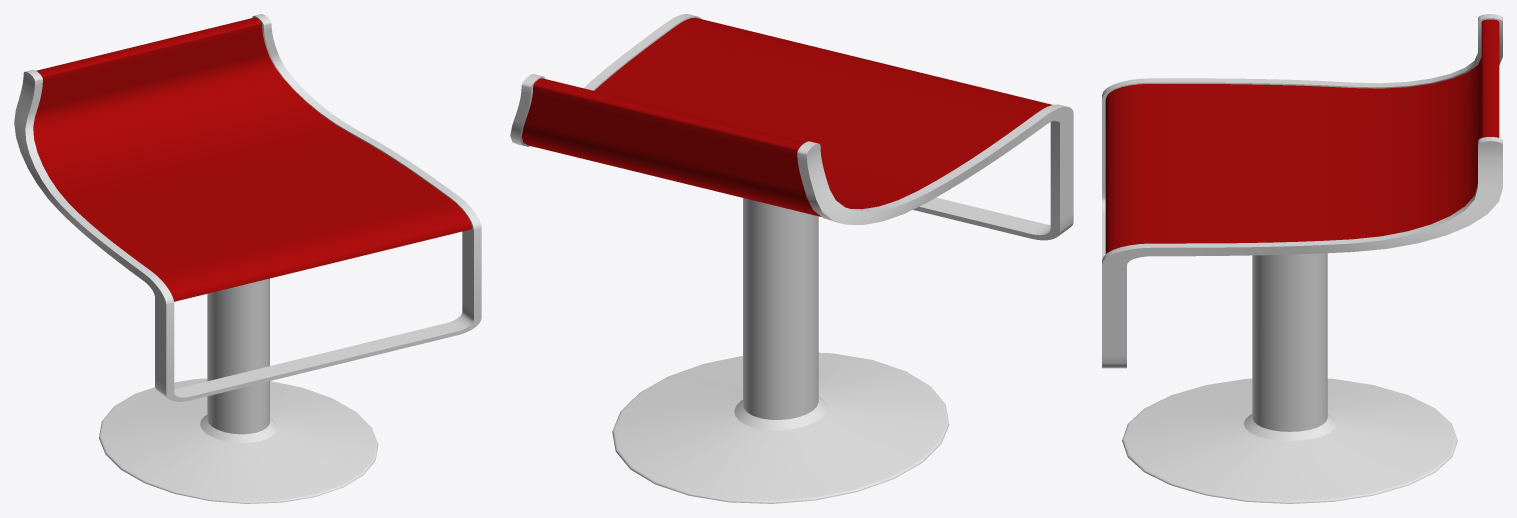
Rendered from sh-lp-sgabello.glb.
The picture shows the model from 3 angles, left to right: view 1: azimuth 30°, elevation 25°; view 2: azimuth 150°, elevation 25°; view 3: azimuth 270°, elevation 25°; orthographic projection. The views are drawn at different scales.
Parts seen in each view (by area): view 1: Line60_4, Line59_1; view 2: Line59_1, Line60_4; view 3: Line60_4, Line59_1.
Part boxes in pixels (x1,y1,x2,y2): Line60_4: (33, 17, 471, 301); Line59_1: (14, 14, 481, 503); Line59_1: (510, 14, 1073, 503); Line60_4: (521, 17, 1052, 216); Line60_4: (1105, 19, 1499, 253); Line59_1: (1102, 14, 1502, 503).
Size of the model in its own units: 1 by 1 by 1.
